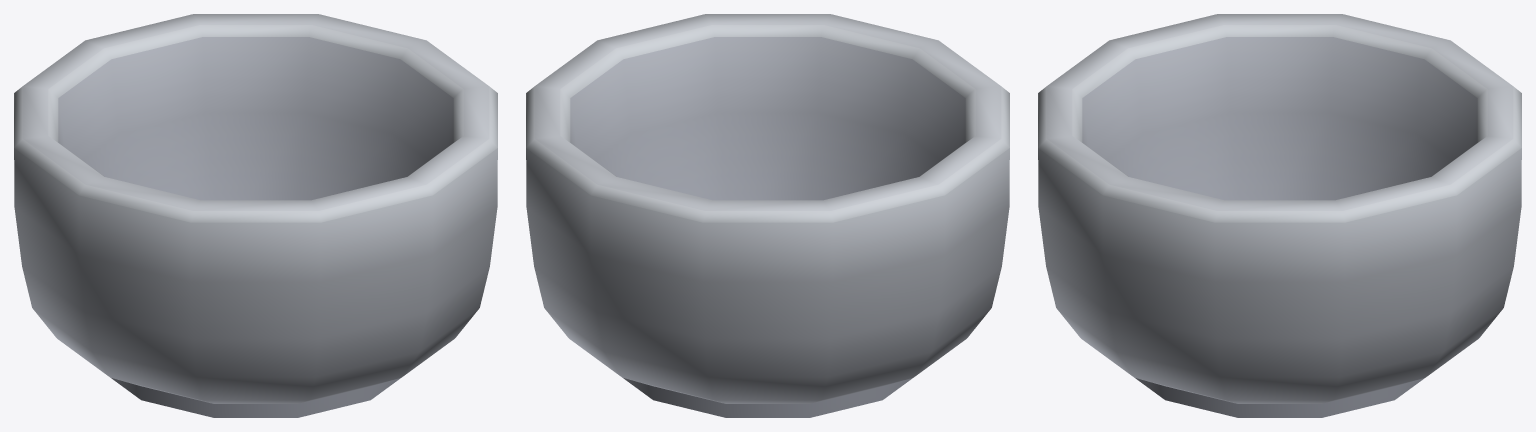
File: mixing-bowl.glb
3 views of the same model, side by side, from view 1: azimuth 30°, elevation 25°; view 2: azimuth 150°, elevation 25°; view 3: azimuth 270°, elevation 25° (orthographic).
Parts seen in each view (by area): view 1: mixing_bowl; view 2: mixing_bowl; view 3: mixing_bowl.
Boxes of the visible parts, x1,y1,x2,y2 form: mixing_bowl: [14, 14, 497, 417]; mixing_bowl: [526, 14, 1009, 417]; mixing_bowl: [1038, 14, 1521, 417].
Bounding box in the file's own units: 0.55 × 0.3 × 0.55.
Materials: 1 (1 with a texture image).
